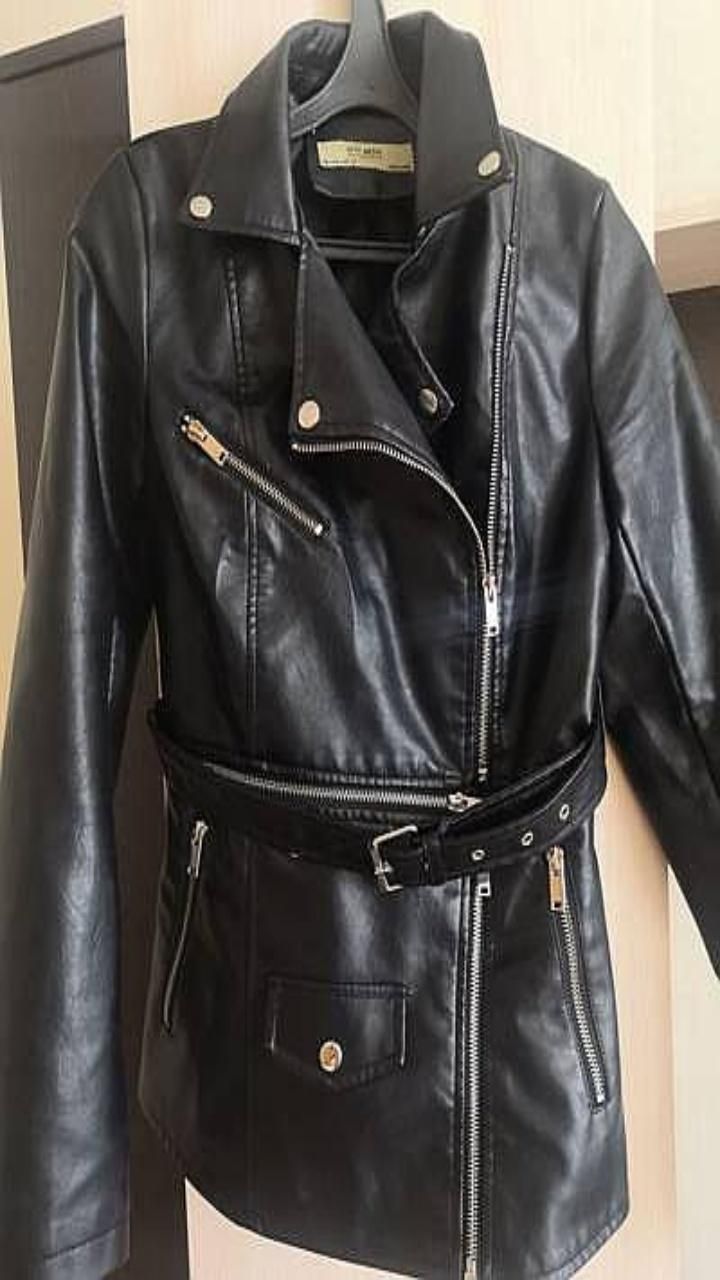Sports_Jacket: (0, 11, 719, 1279)
